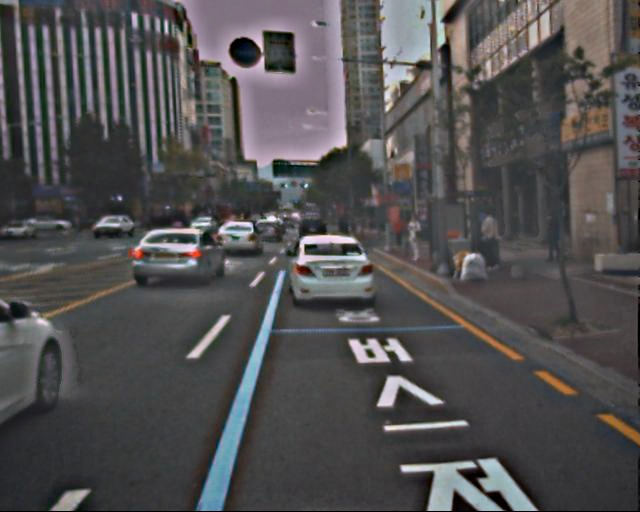person: (476, 207, 503, 274), (540, 208, 564, 267), (404, 213, 426, 266)
